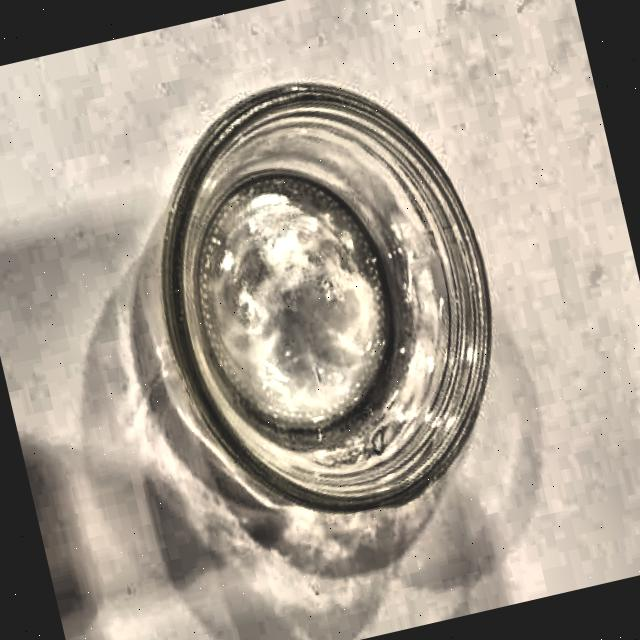glass: (116, 44, 536, 552)
